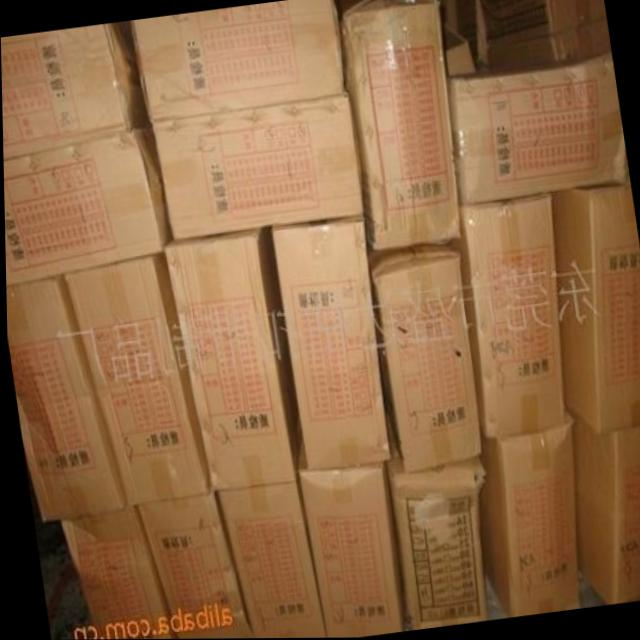box: (64, 252, 209, 507), (163, 228, 298, 491), (150, 92, 362, 239), (339, 0, 459, 251), (270, 218, 388, 468), (5, 275, 124, 521), (446, 194, 560, 437), (445, 53, 628, 202), (3, 125, 171, 287), (364, 240, 480, 471), (129, 0, 347, 120), (295, 426, 402, 638), (550, 183, 640, 434), (385, 413, 485, 629), (476, 406, 575, 618), (1, 21, 147, 157), (217, 480, 325, 639), (138, 492, 251, 639), (561, 404, 640, 604), (59, 508, 171, 640), (480, 0, 558, 69), (549, 0, 611, 58), (455, 0, 487, 70), (442, 23, 477, 76), (440, 0, 455, 28)
